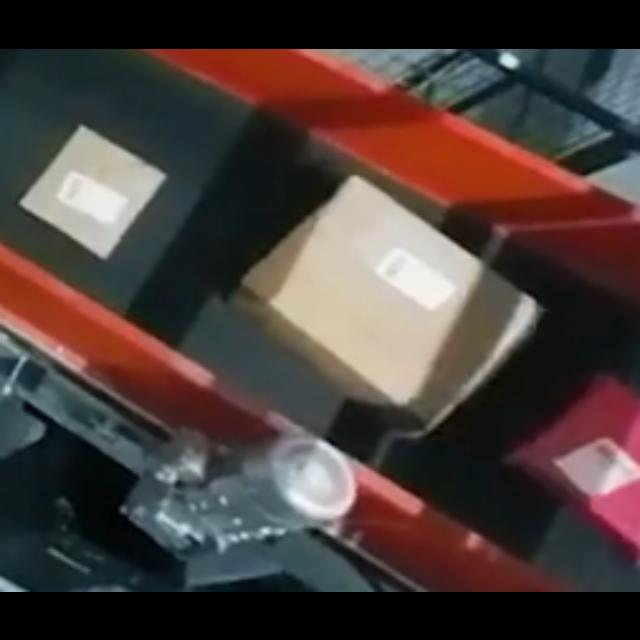box: (225, 172, 550, 440), (510, 372, 640, 562)
mailer: (17, 124, 166, 260)
